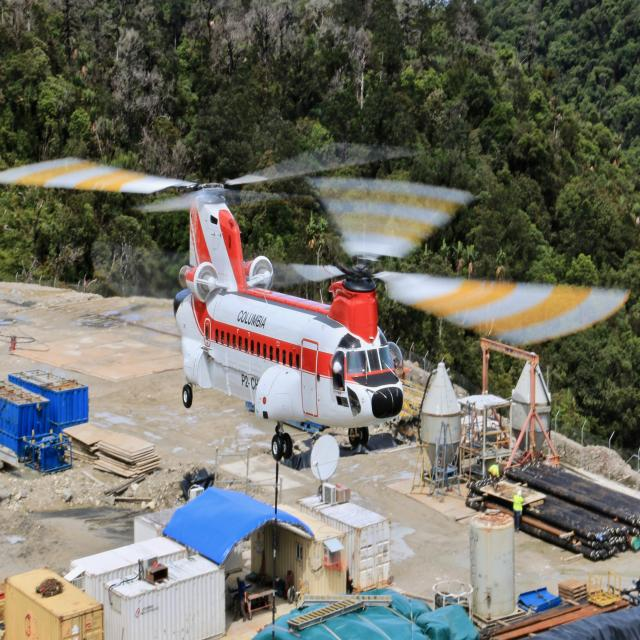helicopter: (1, 112, 639, 474)
